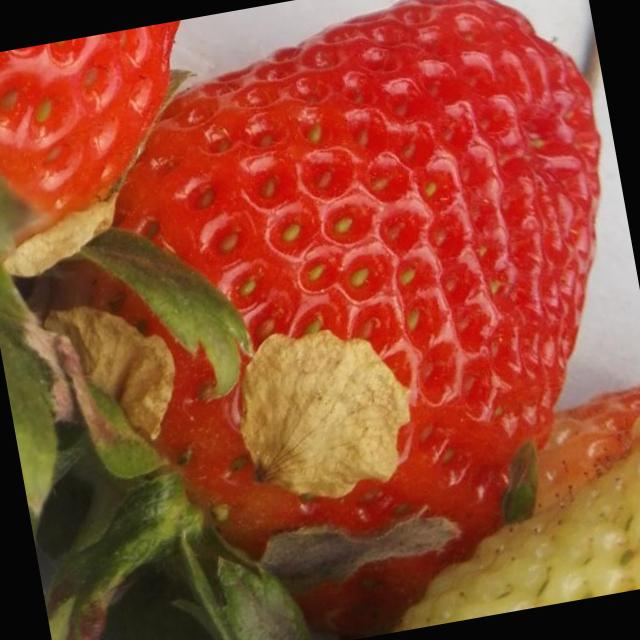Strawberry: (4, 0, 640, 640), (363, 420, 640, 632), (0, 20, 213, 252)
